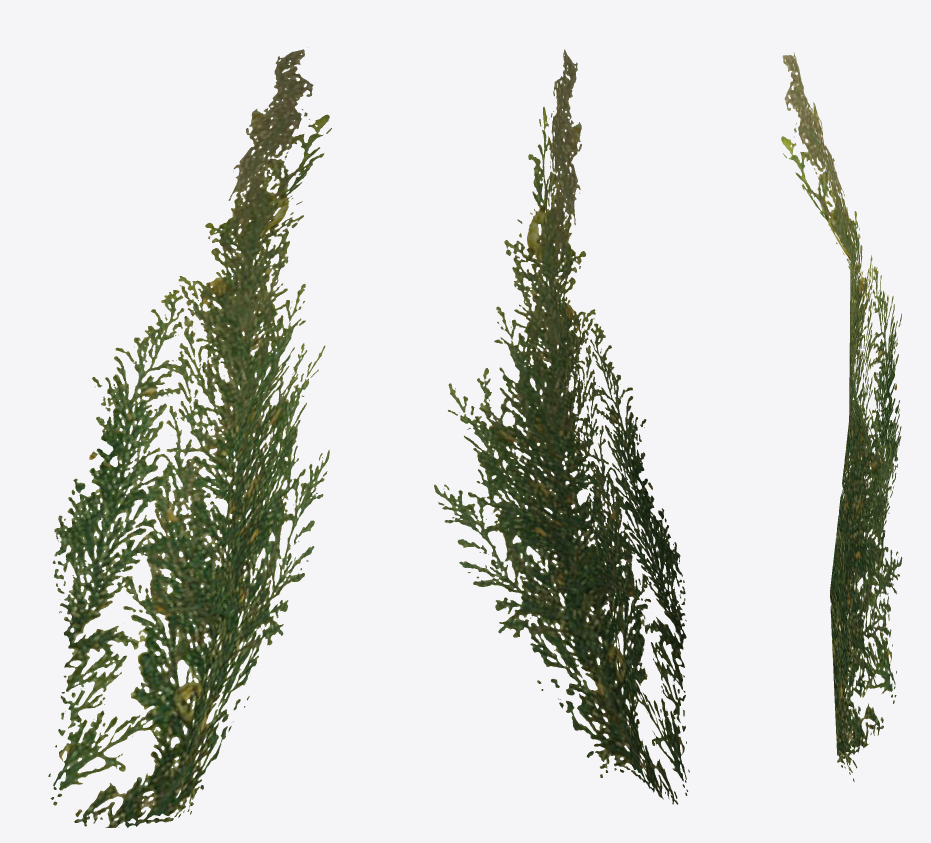
3 renders of one model, left to right at view 1: azimuth 30°, elevation 25°; view 2: azimuth 150°, elevation 25°; view 3: azimuth 270°, elevation 25°, orthographic. The views are drawn at different scales.
Visible parts, largest first — view 1: Cystoseira.004; view 2: Cystoseira.004; view 3: Cystoseira.004.
Part boxes in pixels (box(x1,y1,x2,y2)): Cystoseira.004: box(48, 49, 331, 827); Cystoseira.004: box(434, 49, 689, 804); Cystoseira.004: box(781, 52, 902, 781).
Size of the model in its own units: 0.4427 by 0.9864 by 0.2024.
Materials: 1 (1 with a texture image).
